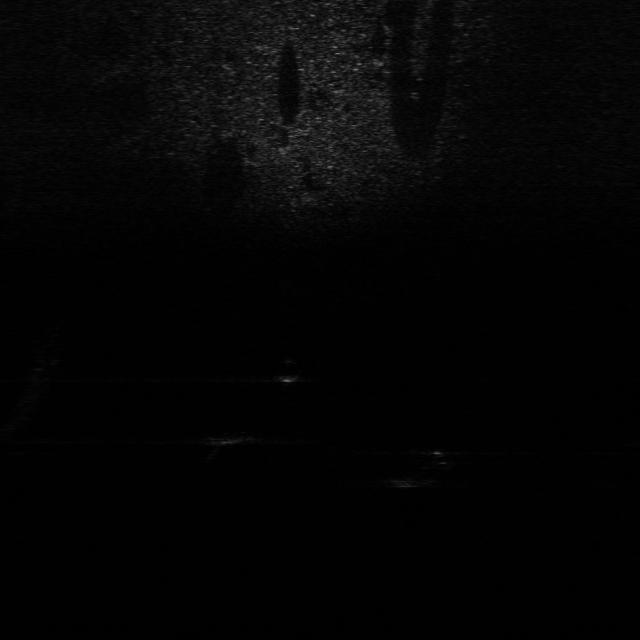ball: (272, 358, 306, 385)
square cage: (206, 425, 266, 449)
tyre: (390, 444, 460, 491)
